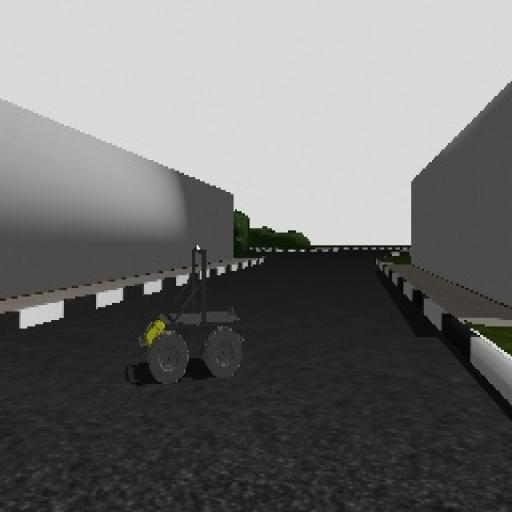huskya200: (120, 234, 248, 399)
